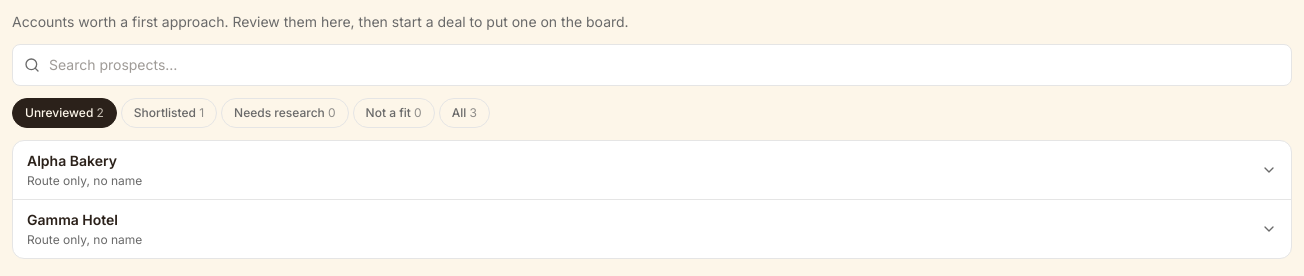
Scenario: Pipeline → Prospects tab › shows unreviewed prospects first and filters by saved decision
This screenshot has width=1304, height=276.
expect the text "Beta Cafe" is not shown: met
expect the text "Alpha Bakery" is shown: met, box [27,152,117,169]
Click the tab "Shortlisted 1" at [169, 113], box [121,98,217,128]
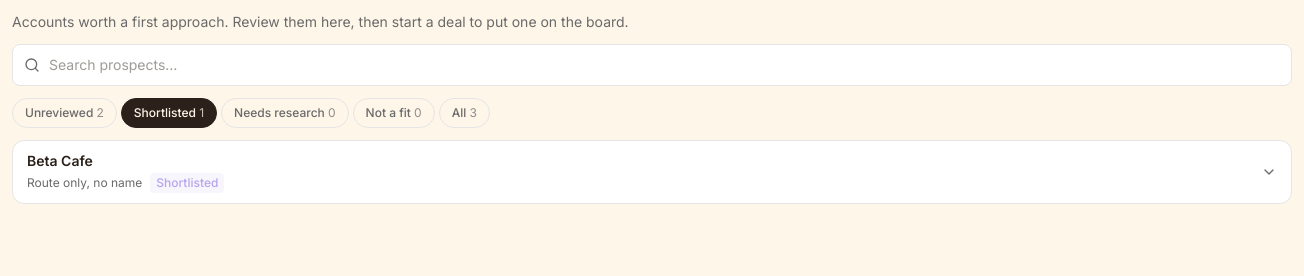
expect the text "Beta Cafe" is shown: met, box [27,152,93,169]
expect the button "Alpha Bakery" is gone: met
